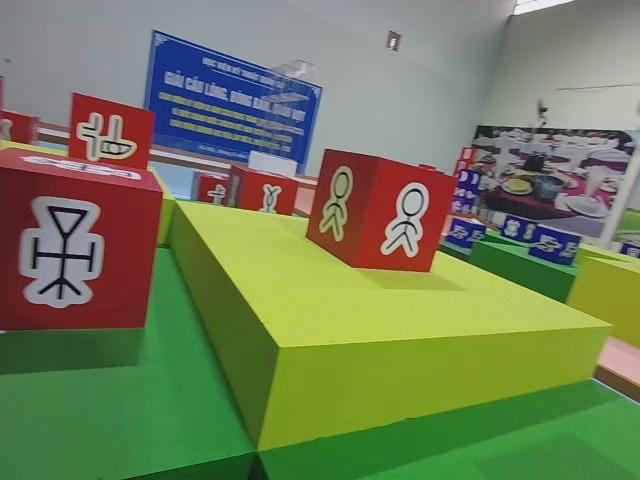R2 Real: (0, 143, 165, 331), (304, 146, 459, 275), (65, 88, 158, 178), (223, 161, 302, 220)
